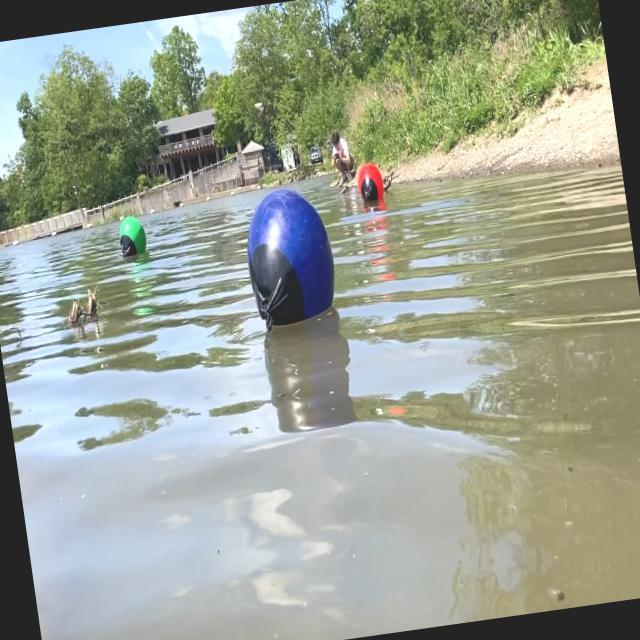buoy: (238, 182, 341, 326), (115, 210, 148, 260), (356, 160, 386, 208)
